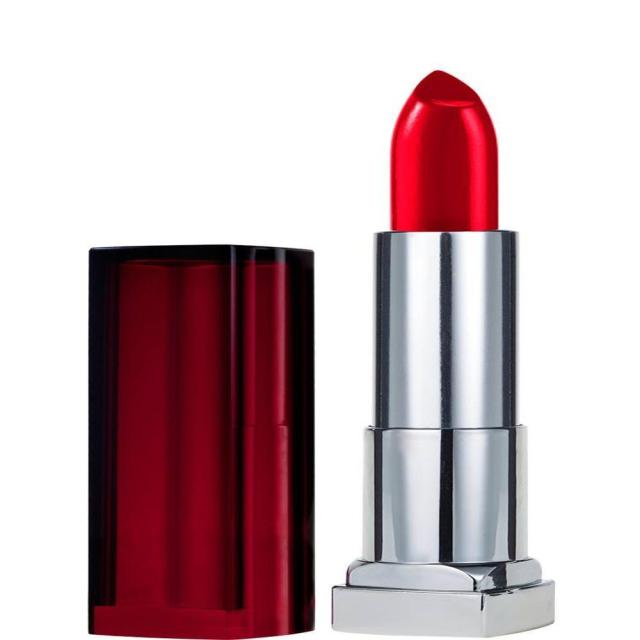lipstick: (340, 45, 542, 640)
